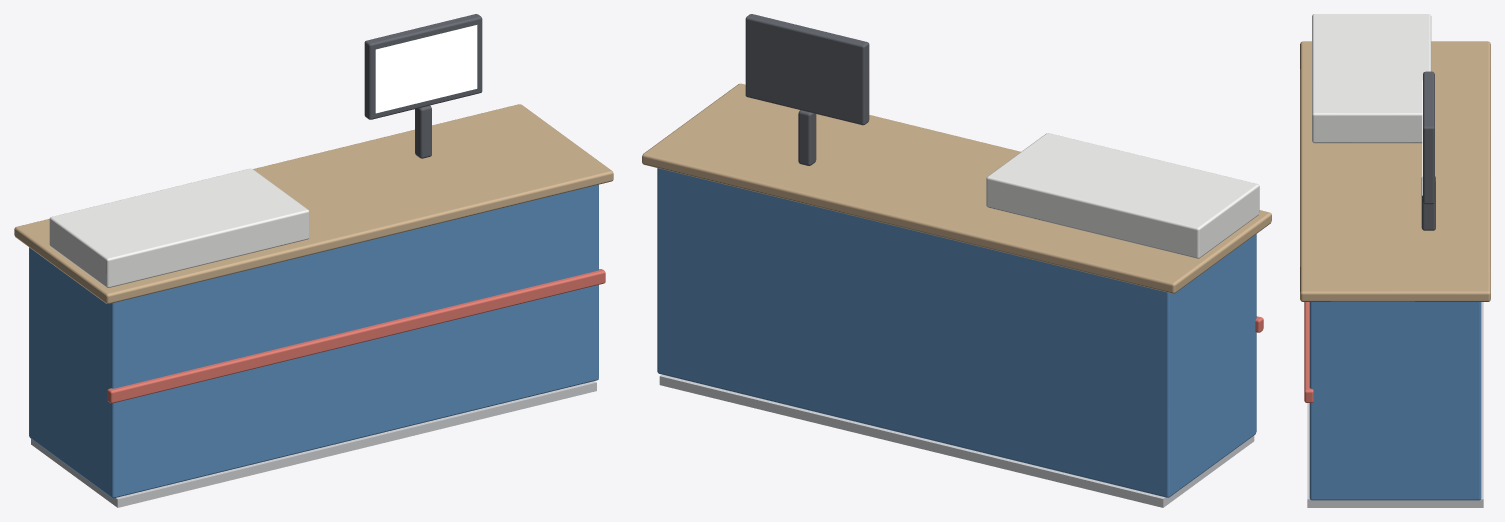
The picture shows the model from 3 angles, left to right: view 1: azimuth 30°, elevation 25°; view 2: azimuth 150°, elevation 25°; view 3: azimuth 270°, elevation 25°; orthographic projection. The views are drawn at different scales.
Visible parts, largest first — view 1: reception-desk; view 2: reception-desk; view 3: reception-desk.
Part boxes in pixels (box(x1,y1,x2,y2)): reception-desk: box(14, 14, 613, 507); reception-desk: box(642, 14, 1271, 507); reception-desk: box(1300, 14, 1490, 507).
Size of the model in its own units: 2.5 by 1.63 by 0.8.
